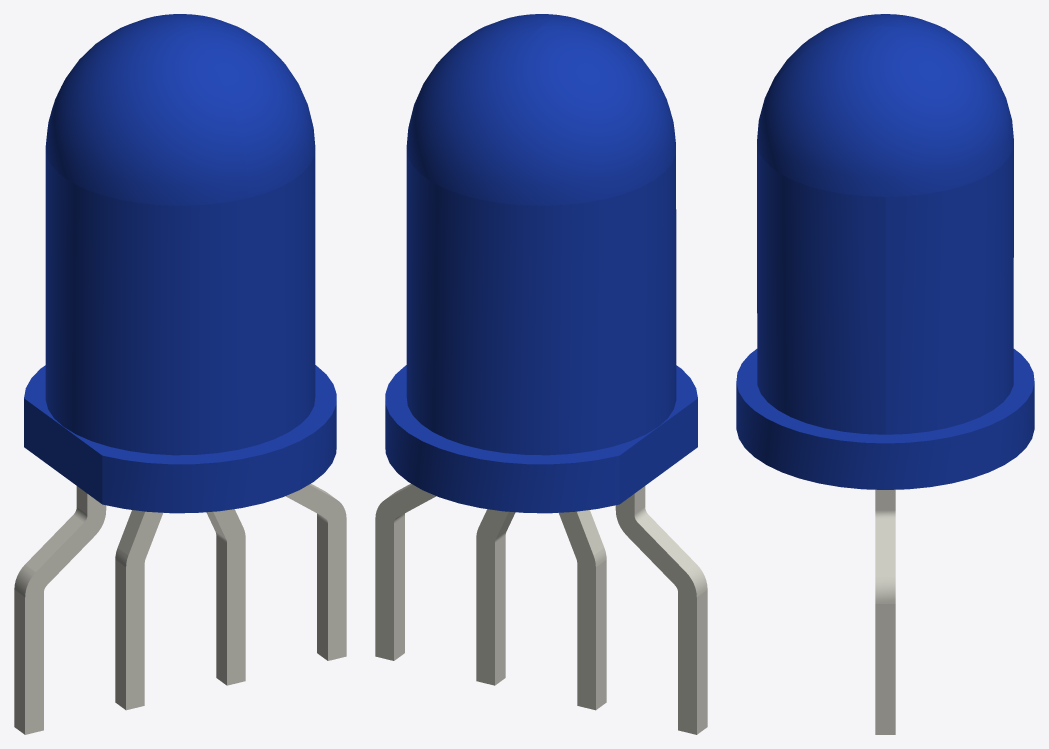
File: rgb-led.glb
3 views of the same model, side by side, from view 1: azimuth 30°, elevation 25°; view 2: azimuth 150°, elevation 25°; view 3: azimuth 270°, elevation 25° (orthographic). The views are drawn at different scales.
Visible parts, largest first — view 1: rgb-led-1, rgb-led-5, rgb-led-4, rgb-led-2, rgb-led-3; view 2: rgb-led-1, rgb-led-5, rgb-led-4, rgb-led-2, rgb-led-3; view 3: rgb-led-1, rgb-led-2.
Boxes of the visible parts, box(x1,y1,x2,y2) form: rgb-led-1: box(24, 14, 336, 513); rgb-led-5: box(14, 486, 106, 734); rgb-led-4: box(115, 510, 162, 710); rgb-led-2: box(285, 484, 346, 660); rgb-led-3: box(206, 509, 245, 685); rgb-led-1: box(385, 14, 697, 513); rgb-led-5: box(615, 486, 707, 734); rgb-led-4: box(559, 510, 606, 710); rgb-led-2: box(375, 484, 436, 660); rgb-led-3: box(476, 509, 515, 685); rgb-led-1: box(736, 14, 1034, 489); rgb-led-2: box(875, 489, 895, 734).
Size of the model in its own units: 0.00688 by 0.0136 by 0.0058.
